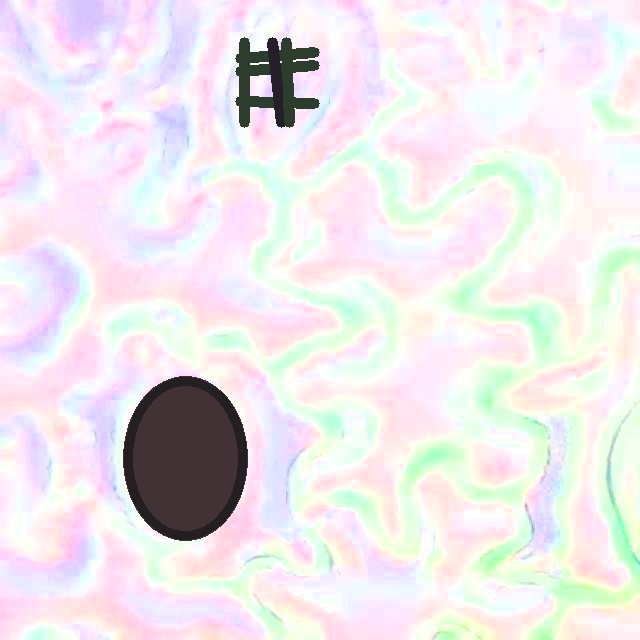open: (123, 376, 247, 540), (235, 37, 318, 126)
